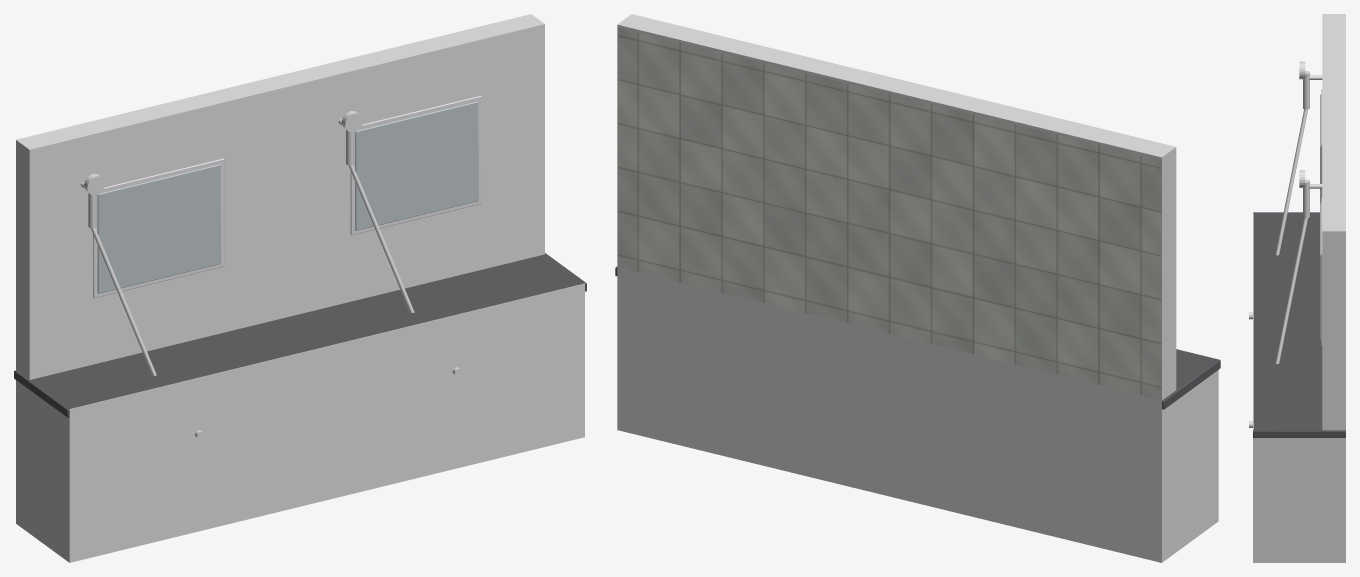
Rendered from shower_unit.glb.
The picture shows the model from 3 angles, left to right: view 1: azimuth 30°, elevation 25°; view 2: azimuth 150°, elevation 25°; view 3: azimuth 270°, elevation 25°; orthographic projection. The views are drawn at different scales.
Parts seen in each view (by area): view 1: COL_Back, COL_Block, ShowerUnit; view 2: ShowerUnit, COL_Block, COL_Back; view 3: ShowerUnit, COL_Block, COL_Back.
Boxes of the visible parts, x1,y1,x2,y2 form: COL_Back: (16, 14, 544, 533); COL_Block: (16, 283, 584, 562); ShowerUnit: (14, 95, 586, 439); ShowerUnit: (615, 27, 1220, 409); COL_Block: (617, 268, 1218, 562); COL_Back: (617, 14, 1176, 562); ShowerUnit: (1249, 61, 1345, 437); COL_Block: (1253, 213, 1345, 562); COL_Back: (1322, 14, 1345, 562).
Size of the model in its own units: 2.62 by 1.85 by 0.49.
Materials: 7 (2 with a texture image).
